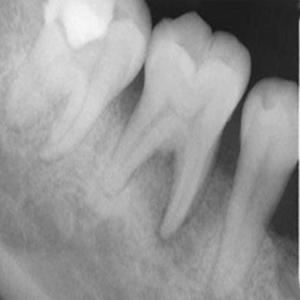tooth: (93, 14, 257, 243), (3, 2, 151, 159), (216, 75, 300, 287)
